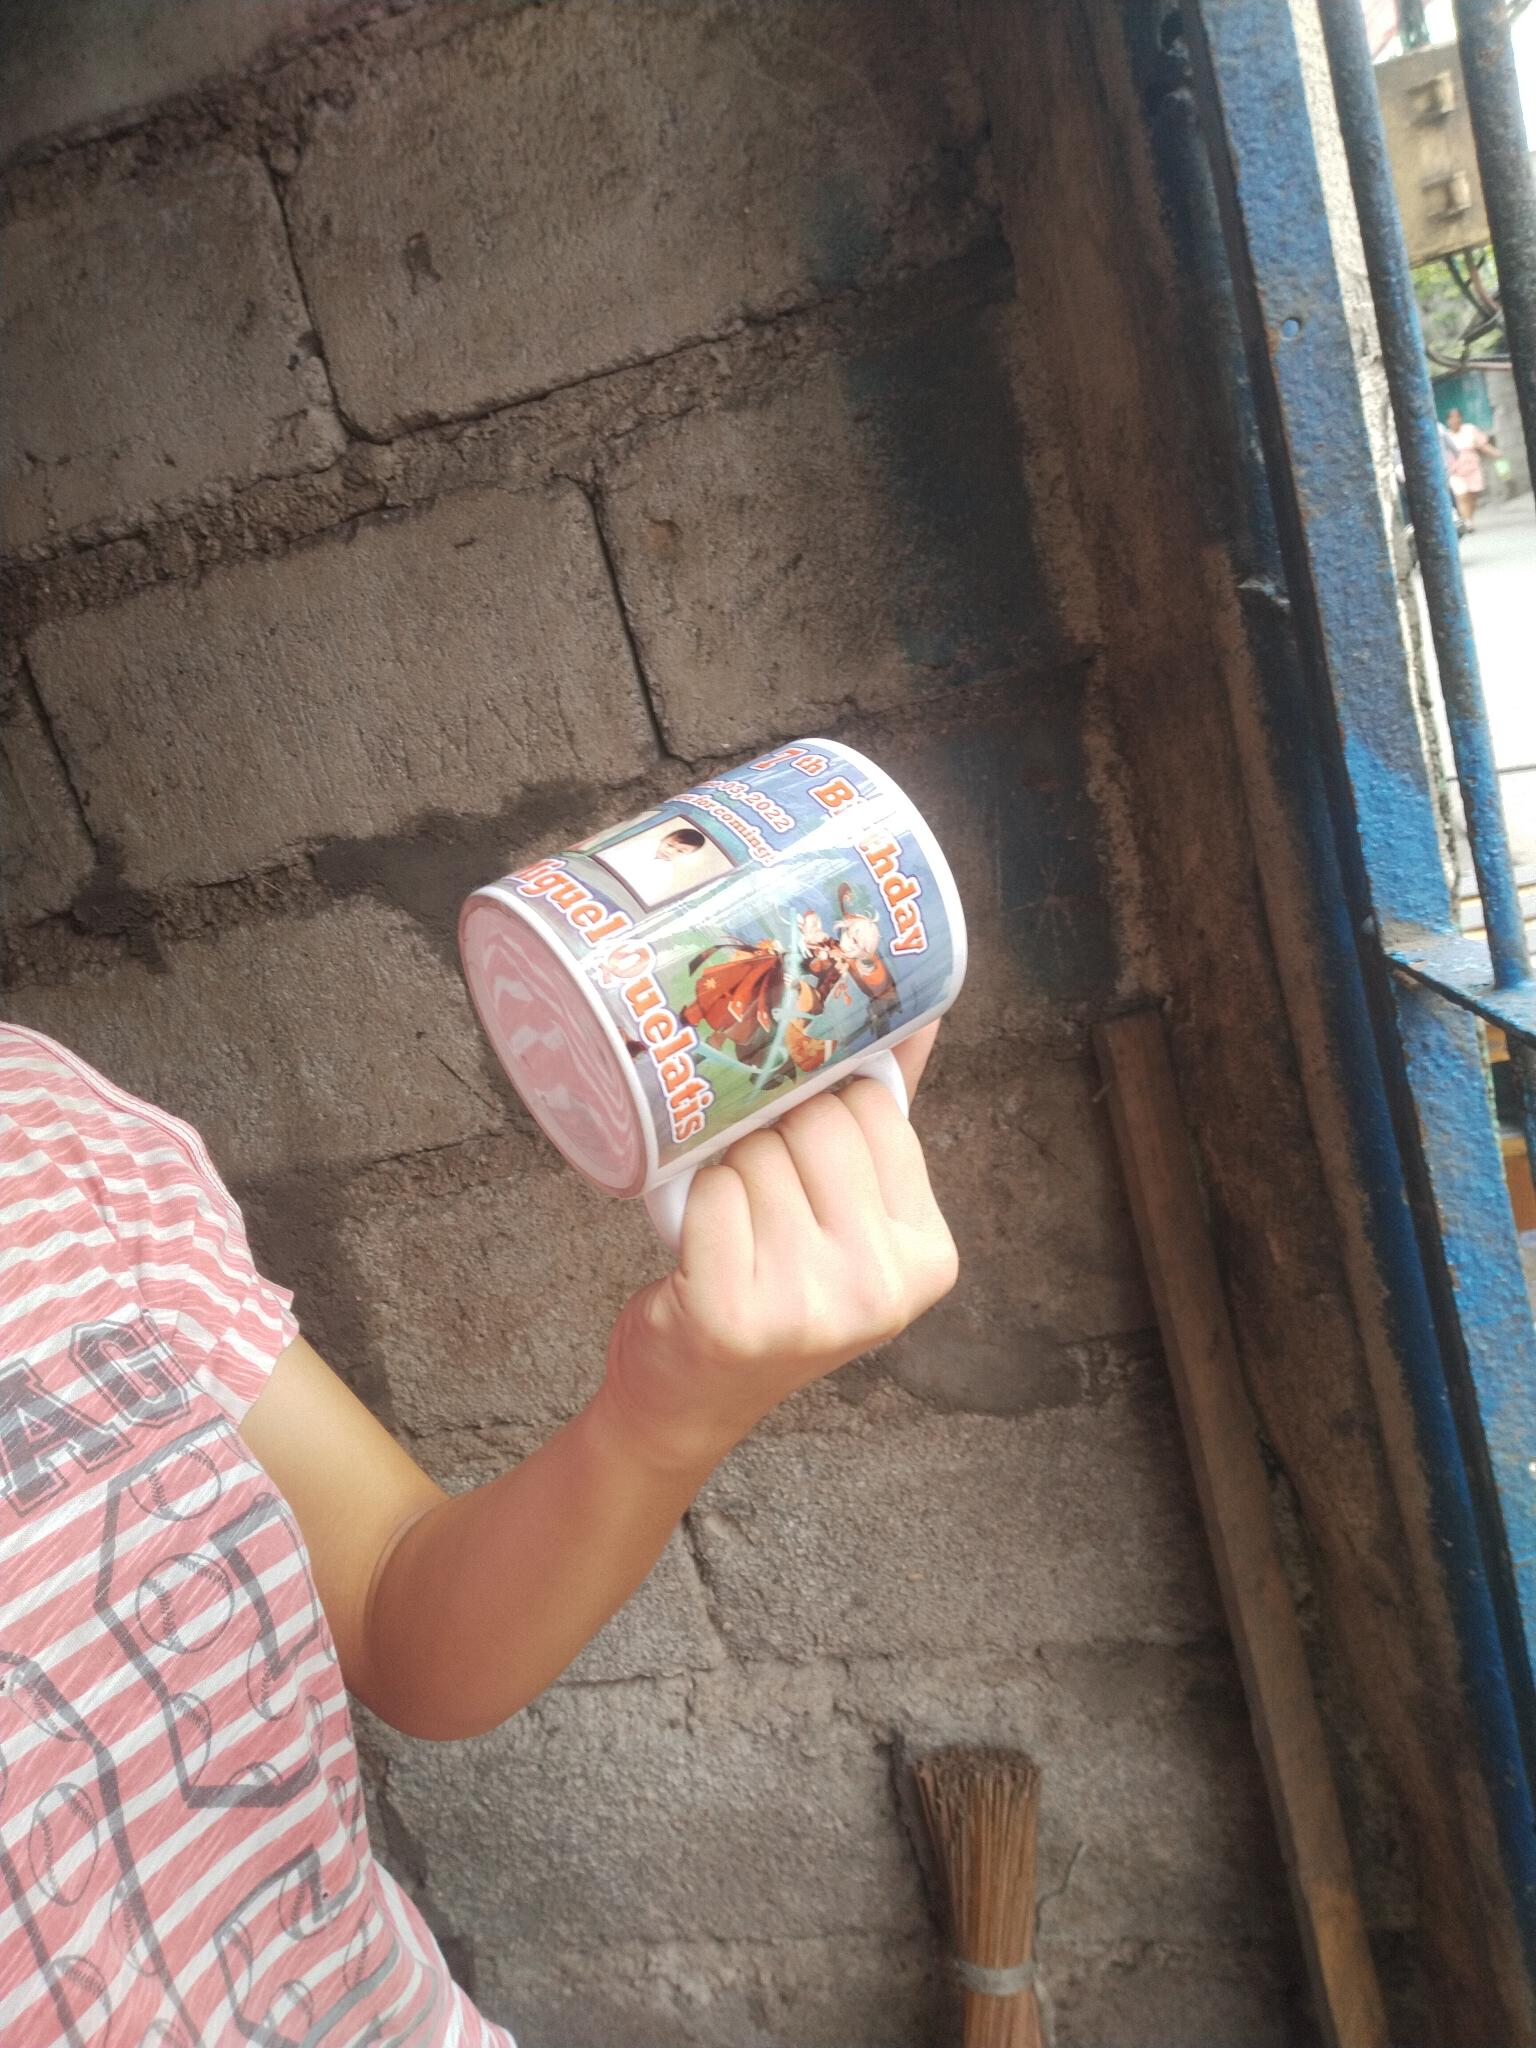Coffee Mug: (461, 735, 963, 1243)
